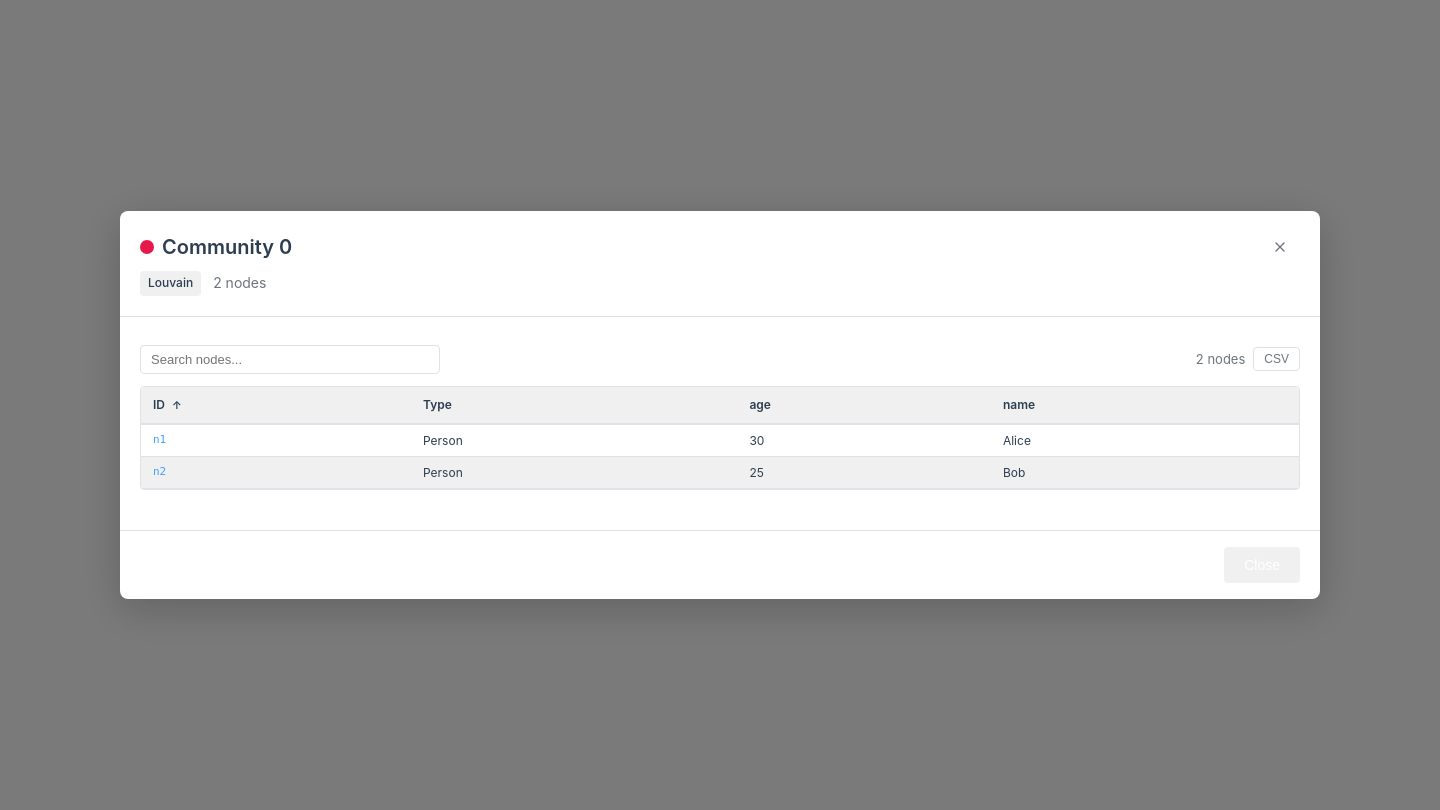
Test: CommunityNodeModal › filters rows by search query
Type "alice" into the field with class "table-search" at (290, 359), box [140, 345, 440, 374]
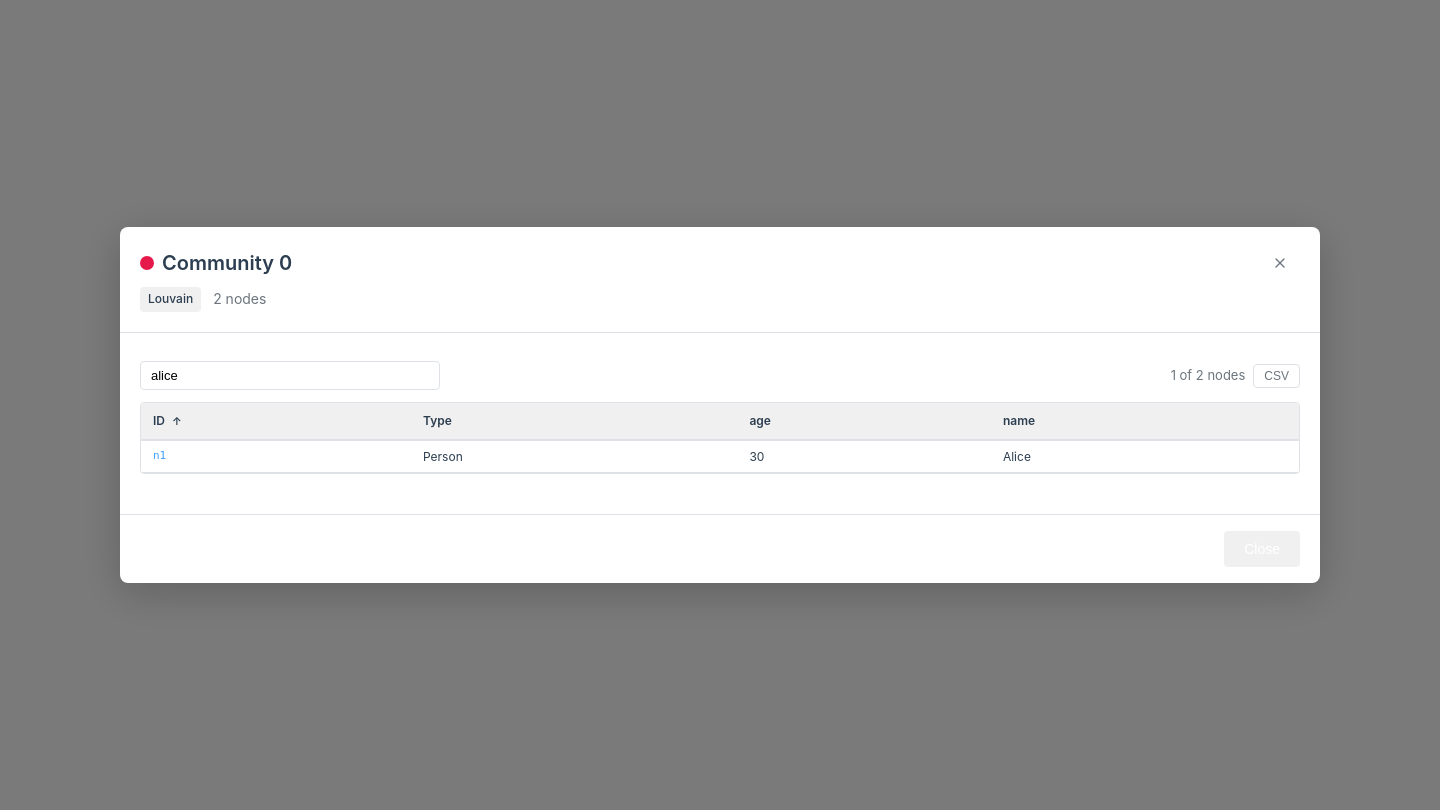
Expected: the table shows "Alice", [1003, 449, 1031, 464]
Expected: the cell no longer shows "Bob"
Expected: the text "1 of 2 nodes" is shown, [1171, 365, 1245, 386]
